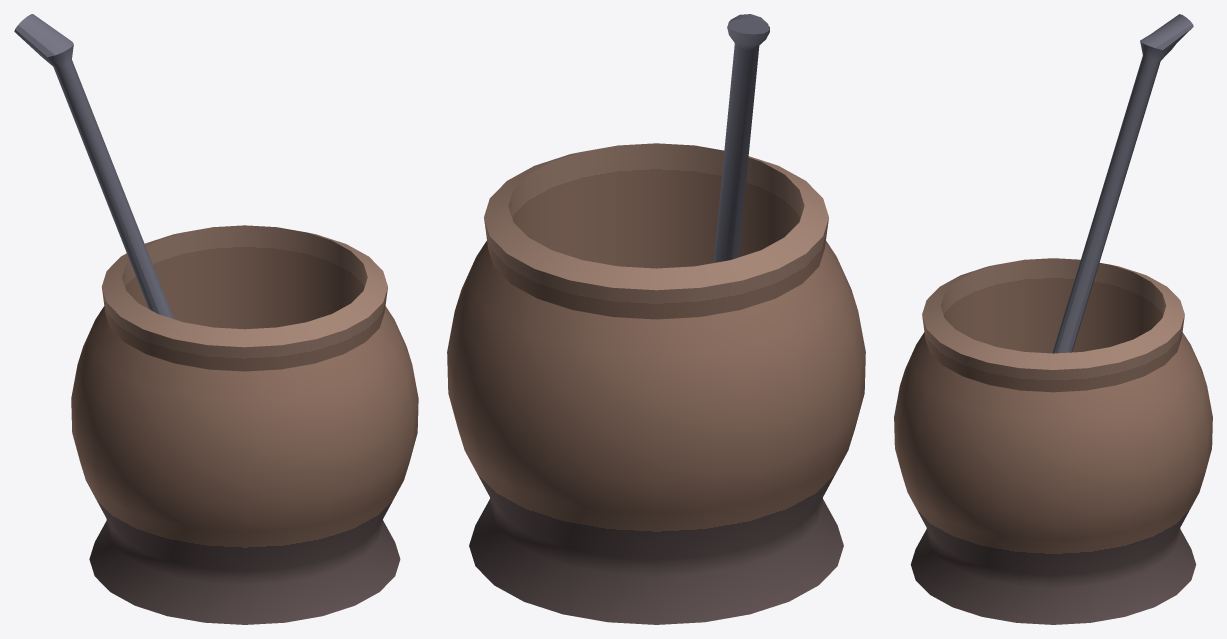
Rendered from mate.fbx.
The picture shows the model from 3 angles, left to right: view 1: azimuth 30°, elevation 25°; view 2: azimuth 150°, elevation 25°; view 3: azimuth 270°, elevation 25°; orthographic projection. The views are drawn at different scales.
Parts seen in each view (by area): view 1: mate; view 2: mate; view 3: mate.
Boxes of the visible parts, x1,y1,x2,y2 form: mate: [14, 14, 418, 624]; mate: [447, 14, 865, 624]; mate: [894, 14, 1212, 624].
Bounding box in the file's own units: 45.99 × 73.87 × 44.26.
